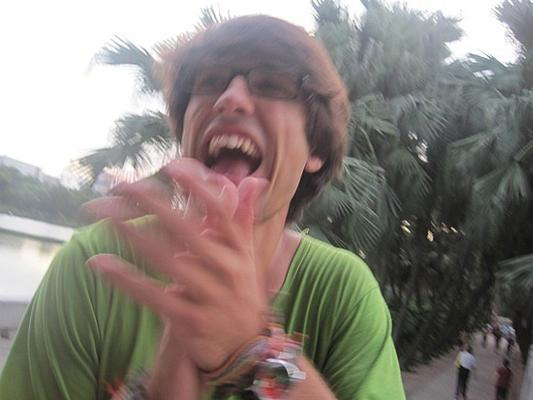person: (1, 16, 406, 400)
